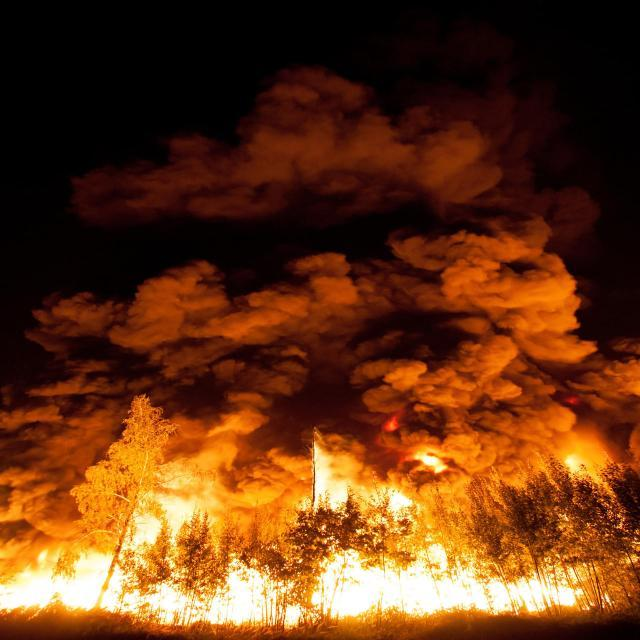Fire: (317, 550, 576, 617), (116, 562, 276, 624), (0, 546, 114, 610), (132, 493, 189, 541), (314, 452, 354, 508)
Smoke: (0, 70, 640, 448)
